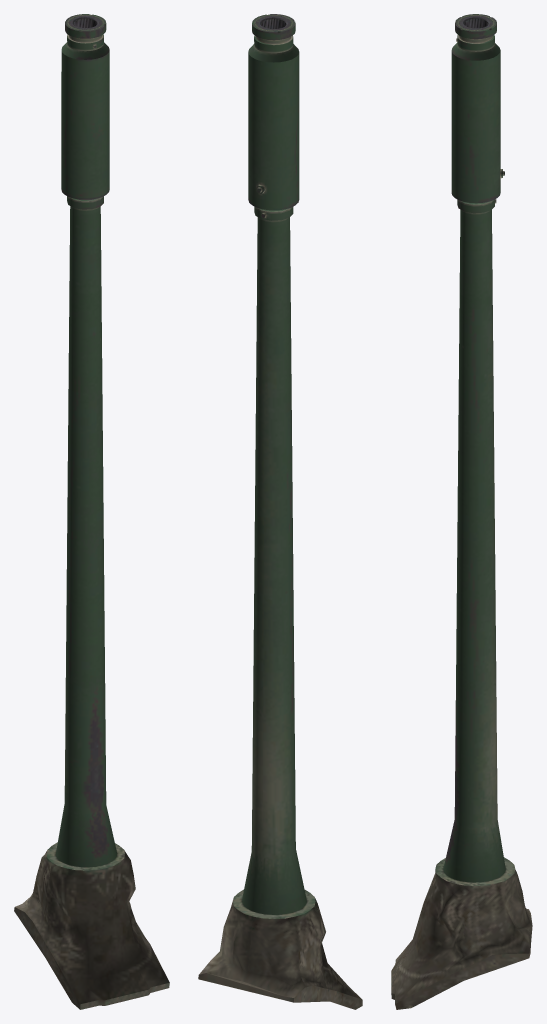
The model's file is Gun_07.glb.
The picture shows the model from 3 angles, left to right: view 1: azimuth 30°, elevation 25°; view 2: azimuth 150°, elevation 25°; view 3: azimuth 270°, elevation 25°; orthographic projection. The views are drawn at different scales.
Visible parts, largest first — view 1: set_0_group_0; view 2: set_0_group_0; view 3: set_0_group_0.
Part boxes in pixels (x1,y1,x2,y2): set_0_group_0: (14, 14, 169, 1009); set_0_group_0: (198, 14, 362, 1009); set_0_group_0: (391, 14, 532, 1009).
Bounding box in the file's own units: 0.4478 × 4.37 × 0.5797.
1 material, 1 textured.
